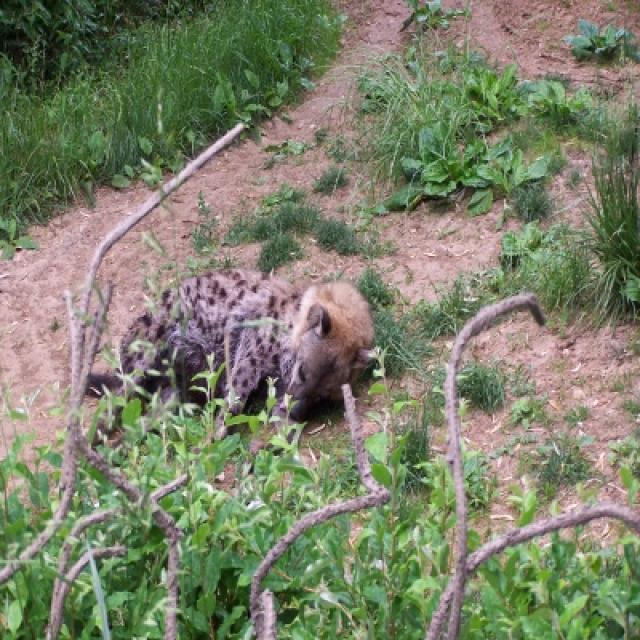hyena: (117, 269, 382, 424)
